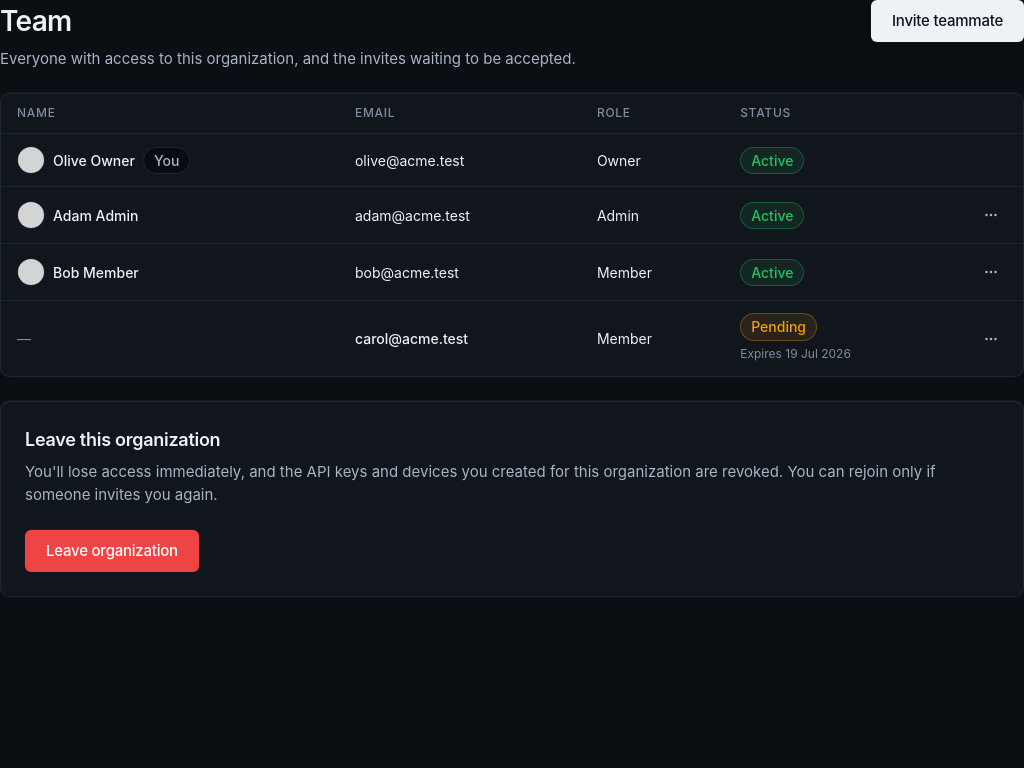
it: TeamManager — members › removes a member after confirming, and warns that their credentials die
Click the button named "actions for" at (991, 272), box [975, 256, 1007, 288]
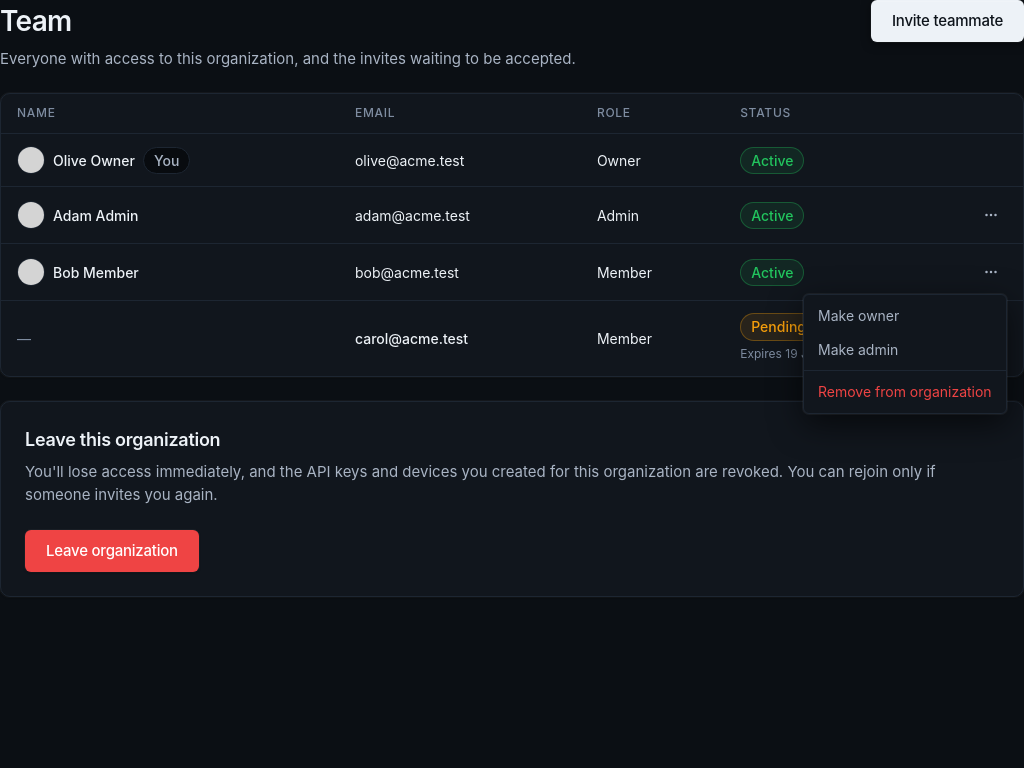
Click the menu item "Remove from organization" at (905, 392), box [818, 383, 992, 400]
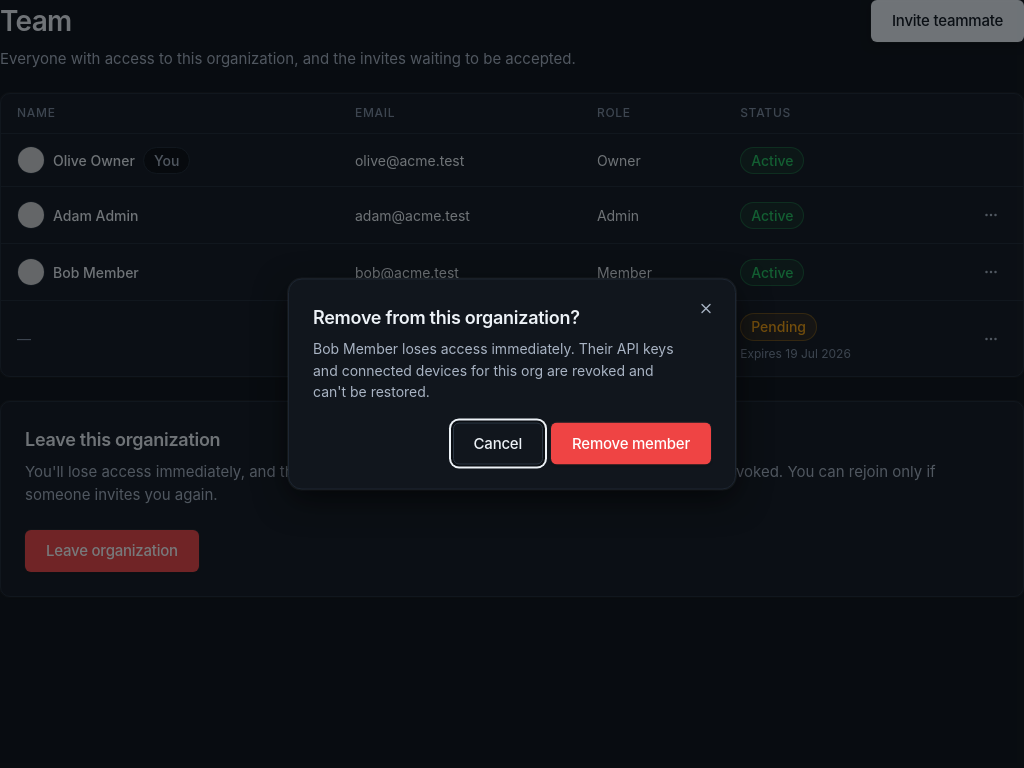
Click the button "Remove member" at (631, 444), box [551, 422, 711, 464]
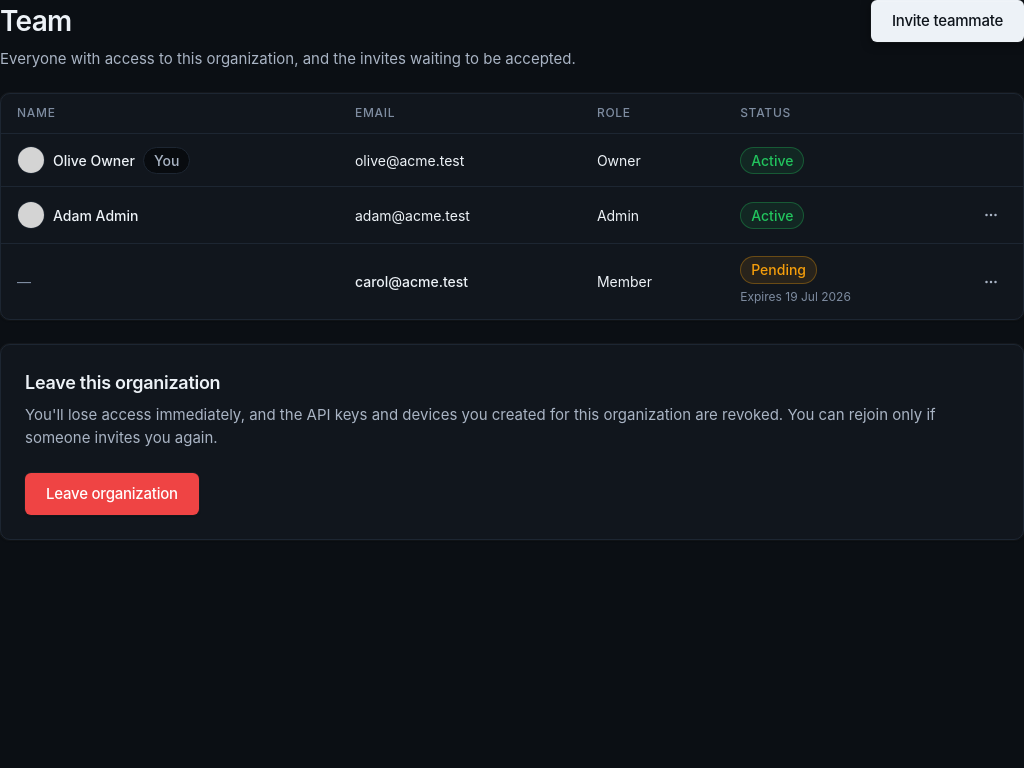
expect the text "bob@acme.test" is gone: met
